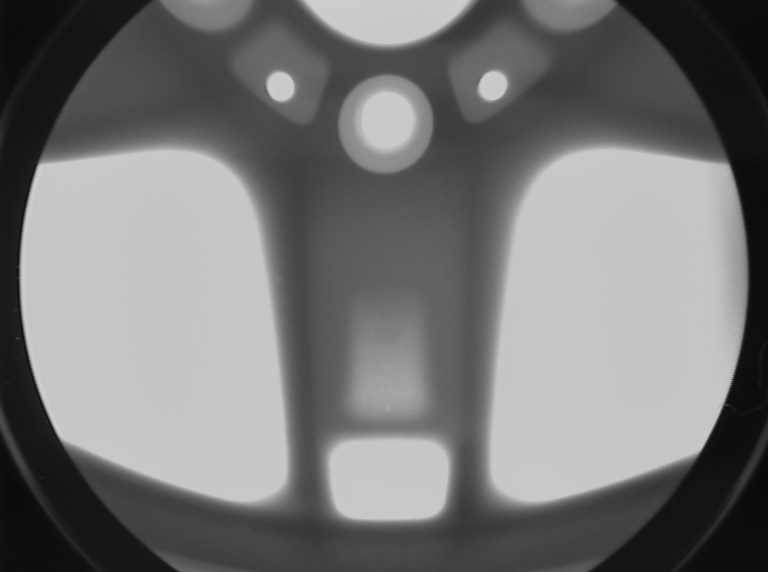defect: (270, 270, 287, 289)
